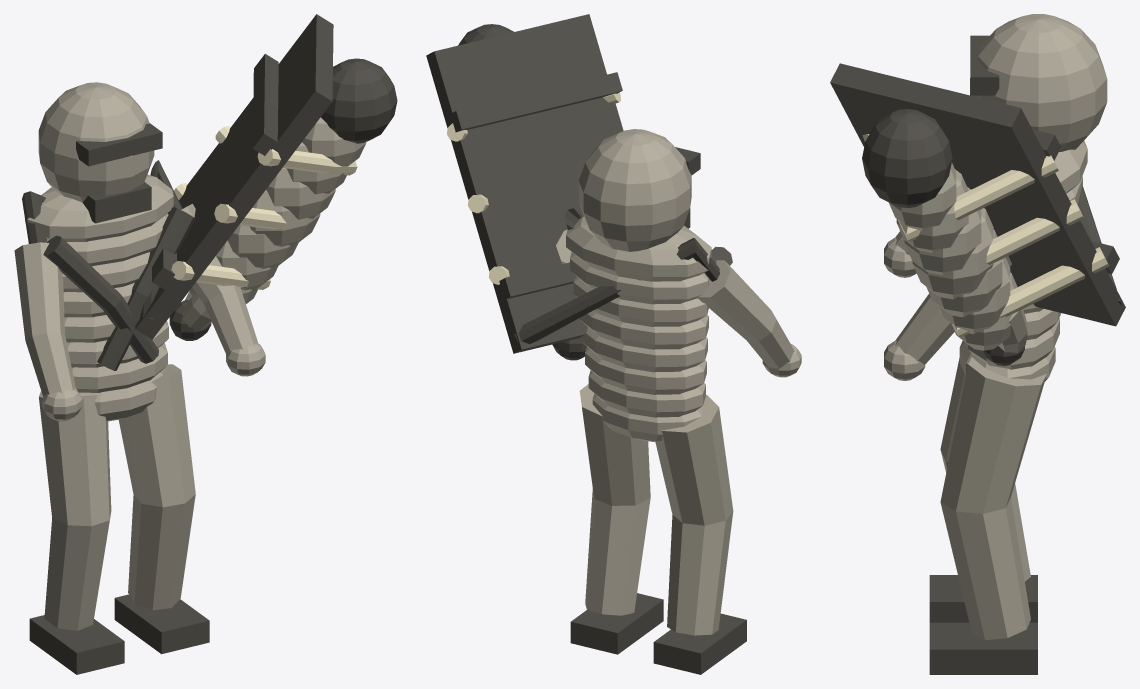
File: pledgeman.glb
The picture shows the model from 3 angles, left to right: view 1: azimuth 30°, elevation 25°; view 2: azimuth 150°, elevation 25°; view 3: azimuth 270°, elevation 25°; orthographic projection. The views are drawn at different scales.
Visible parts, largest first — view 1: pledgeman_body, pledgeman_dark, pledgeman_bone; view 2: pledgeman_body, pledgeman_dark, pledgeman_bone; view 3: pledgeman_body, pledgeman_dark, pledgeman_bone.
Part boxes in pixels (x1,y1,x2,y2): pledgeman_body: (14, 82, 366, 630); pledgeman_dark: (22, 14, 397, 674); pledgeman_bone: (171, 126, 357, 289); pledgeman_body: (556, 129, 801, 635); pledgeman_dark: (426, 14, 746, 674); pledgeman_bone: (447, 92, 620, 284); pledgeman_body: (884, 14, 1107, 640); pledgeman_dark: (830, 35, 1125, 674); pledgeman_bone: (862, 134, 1108, 336).
Size of the model in its own units: 1.67 by 2.58 by 1.07.
